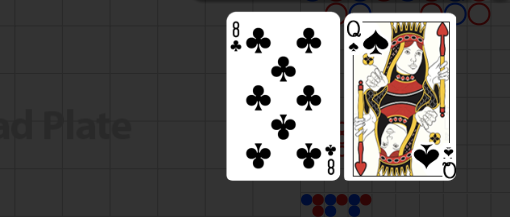8C: (230, 20, 244, 54)
9S: (442, 144, 456, 180)
